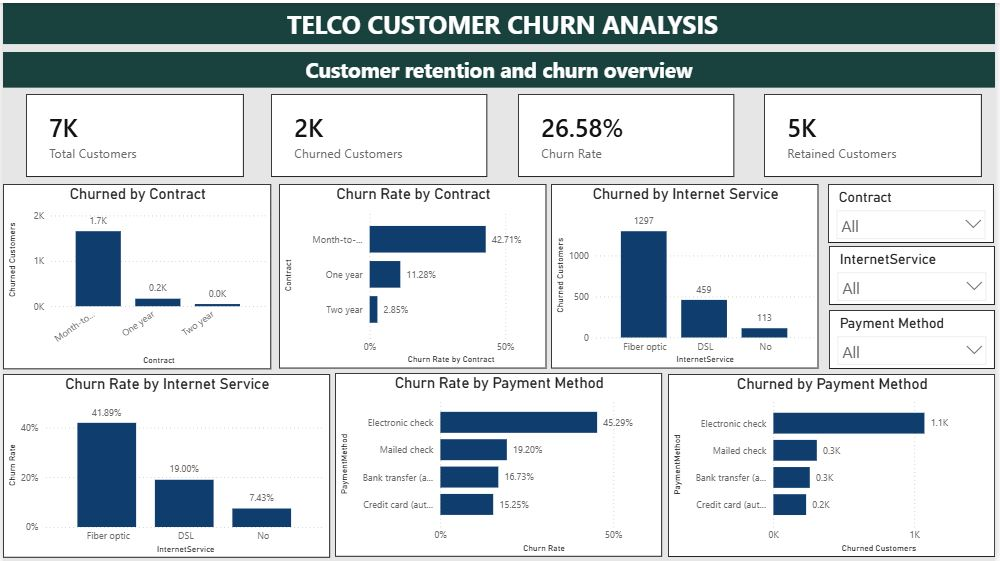

This screenshot's page, from the dashboard's own definition file:
{"tool":"powerbi","page":{"name":"Churn Overview","canvas":[1280,720],"ordinal":0},"visuals":[{"type":"cardVisual","fields":{"Data":["Telco-Customer-Churn.Total Customers"]},"box":[29.4,117.6,280.7,107.3],"z":0},{"type":"cardVisual","fields":{"Data":["Telco-Customer-Churn.Churn Rate"]},"box":[664.2,117.6,279.2,107.3],"z":1},{"type":"cardVisual","fields":{"Data":["Telco-Customer-Churn.Retained Customers"]},"box":[981.7,117.6,280.7,107.3],"z":2},{"type":"cardVisual","fields":{"Data":["Telco-Customer-Churn.Churned Customers"]},"box":[345.4,117.6,279.2,107.3],"z":3},{"type":"clusteredColumnChart","title":"Churned by Contract","fields":{"Category":["Telco-Customer-Churn.Contract"],"Y":["Telco-Customer-Churn.Churned Customers"]},"box":[0,233.5,345.8,238.7],"z":4},{"type":"clusteredBarChart","title":"Churn Rate by Contract","fields":{"Y":["Telco-Customer-Churn.Churn Rate by Contract"],"Category":["Telco-Customer-Churn.Contract"]},"box":[355.6,233.7,345.4,238.1],"z":5},{"type":"clusteredColumnChart","title":"Churned by Internet Service","fields":{"Category":["Telco-Customer-Churn.InternetService"],"Y":["Telco-Customer-Churn.Churned Customers"]},"box":[706.9,233.7,345.4,238.1],"z":6},{"type":"clusteredColumnChart","title":"Churn Rate by Internet  Service","fields":{"Category":["Telco-Customer-Churn.InternetService"],"Y":["Telco-Customer-Churn.Churn Rate"]},"box":[0,478.7,421.9,237.4],"z":7},{"type":"clusteredBarChart","title":"Churned by Payment Method","fields":{"Y":["Telco-Customer-Churn.Churned Customers"],"Category":["Telco-Customer-Churn.PaymentMethod"]},"box":[858.1,478.7,421.9,236.1],"z":8},{"type":"clusteredBarChart","title":"Churn Rate by Payment Method","fields":{"Category":["Telco-Customer-Churn.PaymentMethod"],"Y":["Telco-Customer-Churn.Churn Rate"]},"box":[428.4,477.4,421.9,237.4],"z":9},{"type":"textbox","box":[0,0,1280,52.9],"z":10},{"type":"textbox","box":[0,63.2,1280,45.6],"z":11},{"type":"slicer","fields":{"Values":["Telco-Customer-Churn.Contract"]},"box":[1064.5,233.5,214.2,76.1],"z":12},{"type":"slicer","fields":{"Values":["Telco-Customer-Churn.InternetService"]},"box":[1065.8,313.5,214.2,76.1],"z":13},{"type":"slicer","fields":{"Values":["Telco-Customer-Churn.PaymentMethod"]},"box":[1065.8,396.1,214.2,76.1],"z":14}]}

Visuals, with their boxes in screenshot pixels (x1, y1, x2, y2), scaled from the page's 1280x720 canvas onto the 1000x561 screenshot:
cardVisual - Telco-Customer-Churn.Total Customers: locate(23, 92, 242, 175)
cardVisual - Telco-Customer-Churn.Churn Rate: locate(519, 92, 737, 175)
cardVisual - Telco-Customer-Churn.Retained Customers: locate(767, 92, 986, 175)
cardVisual - Telco-Customer-Churn.Churned Customers: locate(270, 92, 488, 175)
"Churned by Contract" clusteredColumnChart: locate(0, 182, 270, 368)
"Churn Rate by Contract" clusteredBarChart: locate(278, 182, 548, 368)
"Churned by Internet Service" clusteredColumnChart: locate(552, 182, 822, 368)
"Churn Rate by Internet  Service" clusteredColumnChart: locate(0, 373, 330, 558)
"Churned by Payment Method" clusteredBarChart: locate(670, 373, 999, 557)
"Churn Rate by Payment Method" clusteredBarChart: locate(335, 372, 664, 557)
textbox: locate(0, 0, 999, 41)
textbox: locate(0, 49, 999, 85)
slicer - Telco-Customer-Churn.Contract: locate(832, 182, 999, 241)
slicer - Telco-Customer-Churn.InternetService: locate(833, 244, 999, 304)
slicer - Telco-Customer-Churn.PaymentMethod: locate(833, 309, 999, 368)
